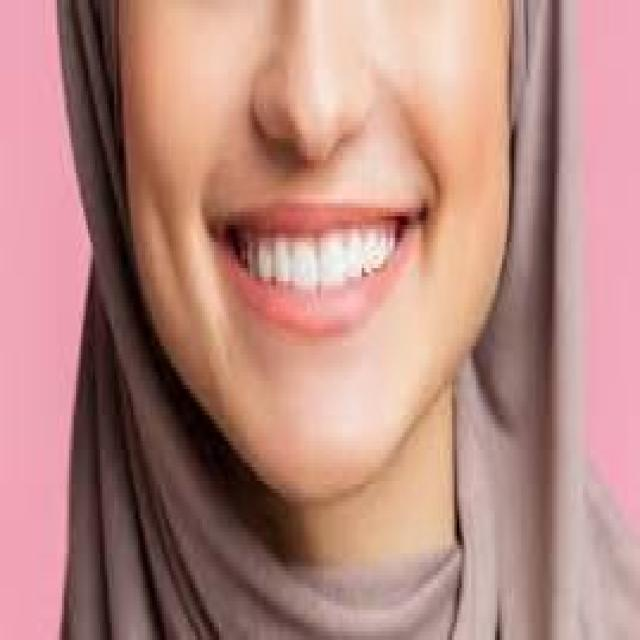tooth: (359, 229, 388, 264), (321, 242, 343, 286), (240, 242, 276, 268), (297, 247, 314, 281), (280, 242, 292, 281), (348, 238, 354, 281)
